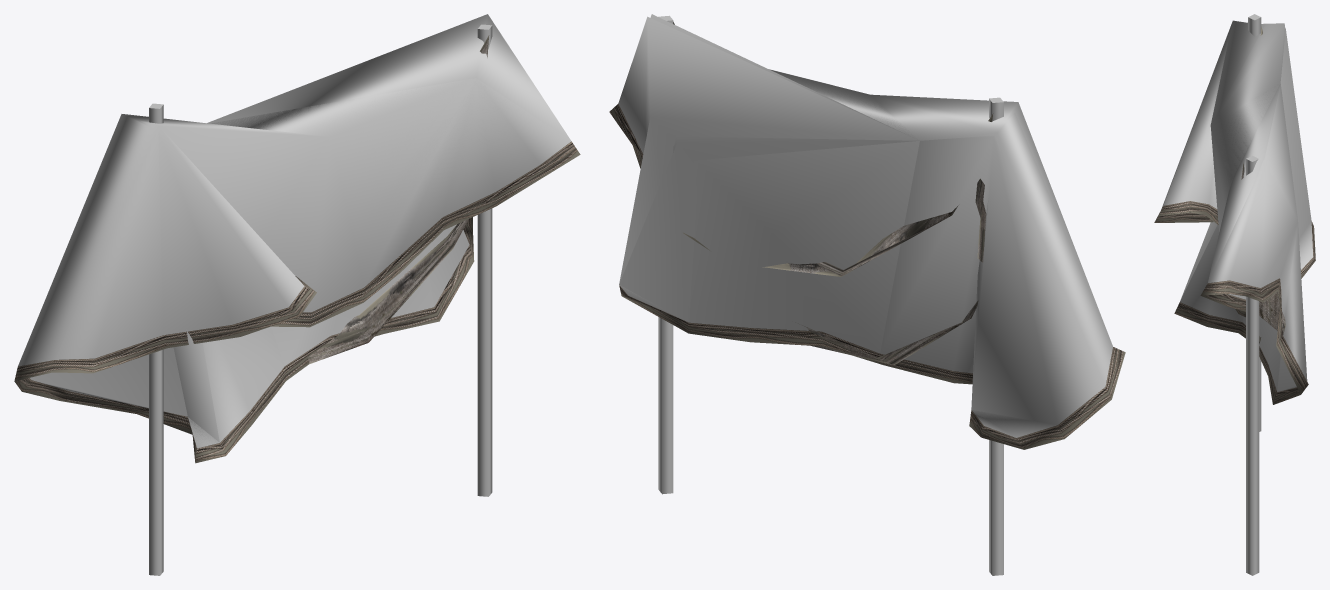
File: Fishnet2_LOD2.fbx
3 renders of one model, left to right at view 1: azimuth 30°, elevation 25°; view 2: azimuth 150°, elevation 25°; view 3: azimuth 270°, elevation 25°, orthographic. The views are drawn at different scales.
Parts seen in each view (by area): view 1: polySurface1197; view 2: polySurface1197; view 3: polySurface1197.
Boxes of the visible parts, x1,y1,x2,y2 form: polySurface1197: (14, 14, 580, 575); polySurface1197: (609, 14, 1125, 575); polySurface1197: (1154, 14, 1315, 575).
Bounding box in the file's own units: 7.68 × 6.63 × 2.32.
